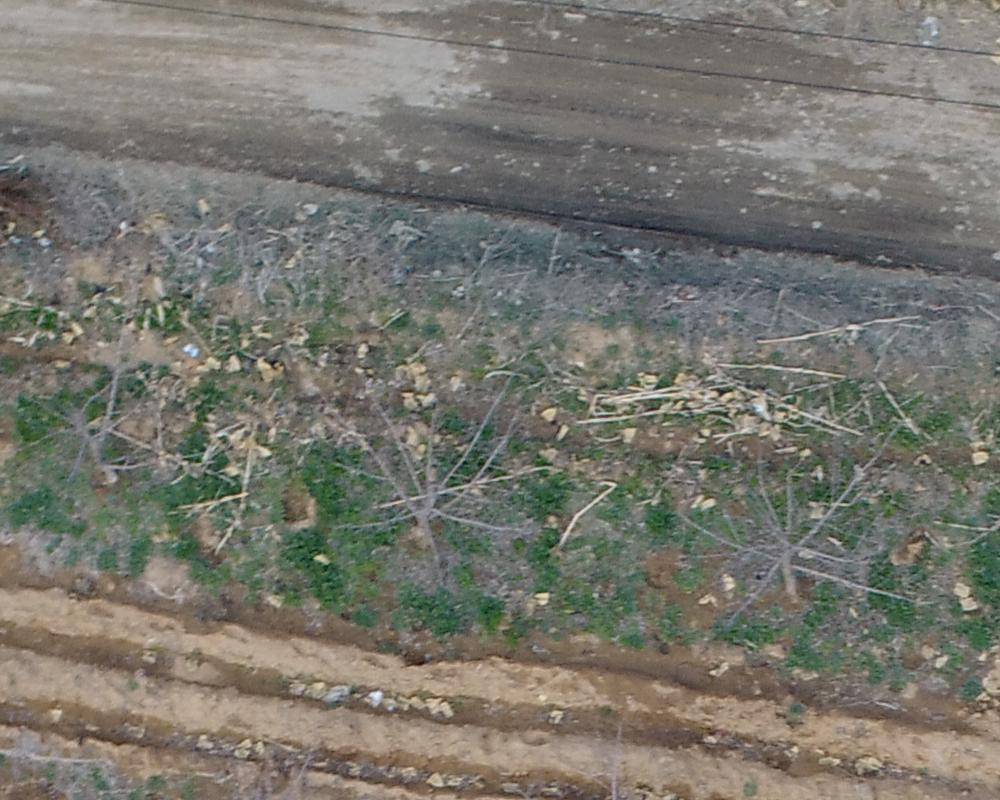apple: (642, 397, 923, 643), (283, 346, 561, 578), (10, 324, 174, 524)
